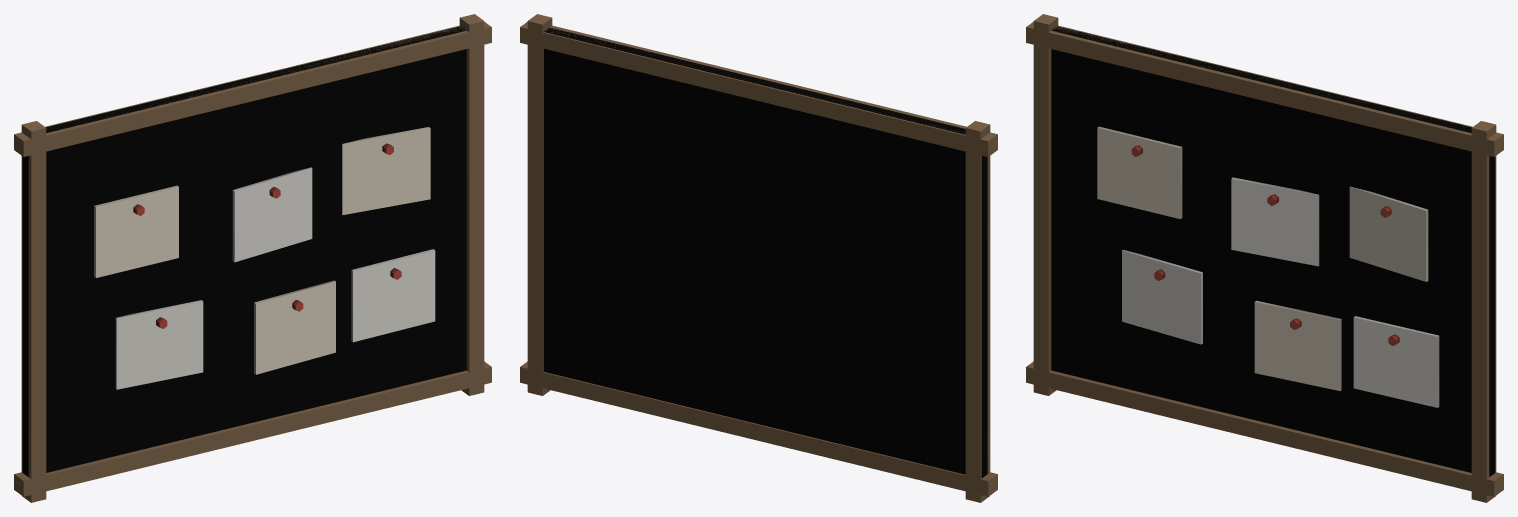
The model's file is cork_board.glb.
3 renders of one model, left to right at view 1: azimuth 30°, elevation 25°; view 2: azimuth 150°, elevation 25°; view 3: azimuth 330°, elevation 25°, orthographic.
Visible parts, largest first — view 1: cork_board; view 2: cork_board; view 3: cork_board.
Part boxes in pixels (x1=…): cork_board: x1=14, y1=14, x2=491, y2=502; cork_board: x1=520, y1=14, x2=997, y2=502; cork_board: x1=1026, y1=14, x2=1503, y2=502.
Size of the model in its own units: 0.62 by 0.47 by 0.031.
